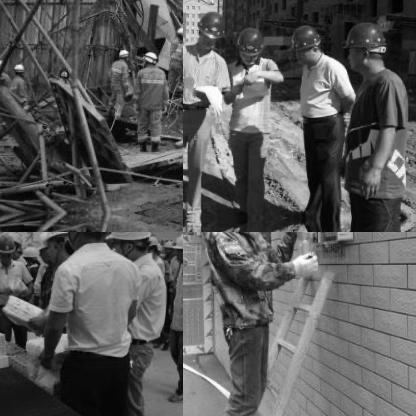Helmet: (340, 17, 388, 74), (286, 22, 324, 64), (194, 8, 228, 50), (108, 232, 151, 260), (235, 24, 264, 62), (58, 232, 106, 248), (45, 232, 70, 259), (20, 242, 40, 270), (35, 232, 50, 264), (0, 232, 15, 261), (142, 48, 156, 66), (175, 232, 182, 264), (116, 45, 128, 61), (12, 61, 24, 76), (174, 23, 182, 40), (0, 54, 4, 73)
